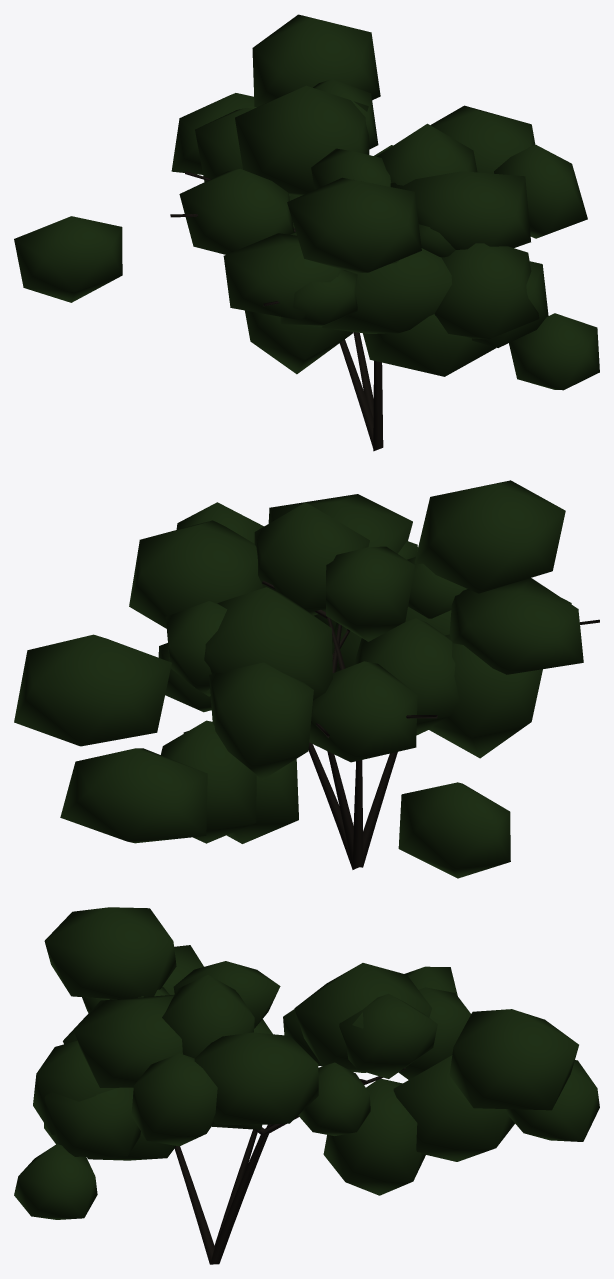
File: BUSH_4.dae
The picture shows the model from 3 angles, top to bottom: view 1: azimuth 30°, elevation 25°; view 2: azimuth 150°, elevation 25°; view 3: azimuth 270°, elevation 25°; orthographic projection. The views are drawn at different scales.
Parts seen in each view (by area): view 1: BUSH_4; view 2: BUSH_4; view 3: BUSH_4.
Part boxes in pixels (bbox=[...]): BUSH_4: bbox=[14, 14, 599, 451]; BUSH_4: bbox=[14, 480, 599, 878]; BUSH_4: bbox=[14, 907, 599, 1264].
Size of the model in its own units: 1.71 by 2.06 by 1.25.
